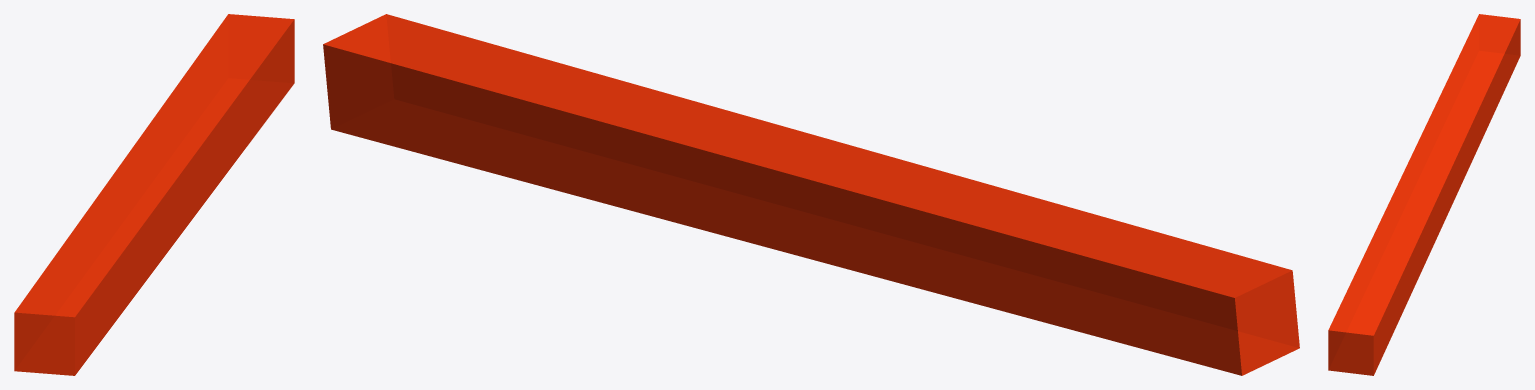
Rendered from Event_421115418_EErechit_105.fbx.
The picture shows the model from 3 angles, left to right: view 1: azimuth 90°, elevation 25°; view 2: azimuth 150°, elevation 25°; view 3: azimuth 270°, elevation 25°; orthographic projection. The views are drawn at different scales.
Parts seen in each view (by area): view 1: Model; view 2: Model; view 3: Model.
Part boxes in pixels (box(x1,y1,x2,y2)): Model: box(14, 14, 294, 375); Model: box(323, 14, 1299, 375); Model: box(1328, 14, 1520, 375).
Bounding box in the file's own units: 1.07 × 0.1853 × 0.3267.
